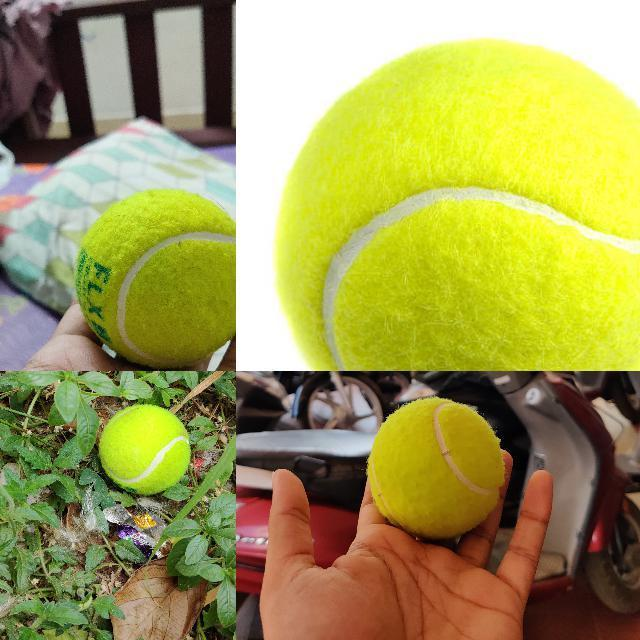tennis-ball: (273, 40, 639, 370), (72, 187, 235, 369), (366, 396, 505, 538), (99, 405, 190, 494)
